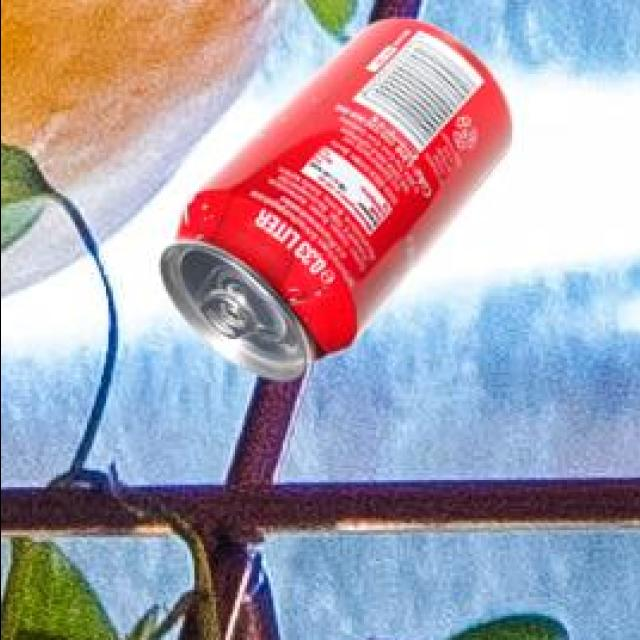logam: (164, 16, 515, 374)
